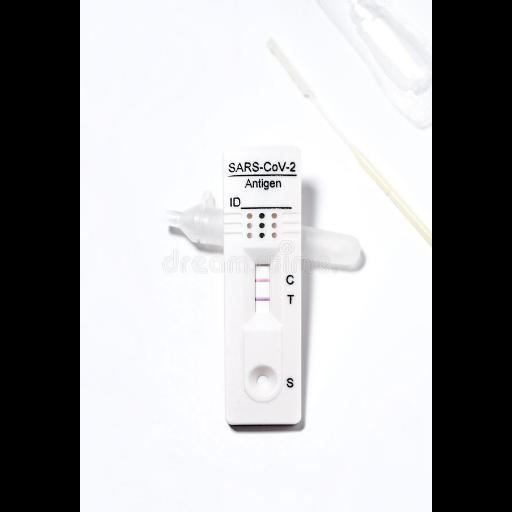Pos: (222, 146, 304, 424)
